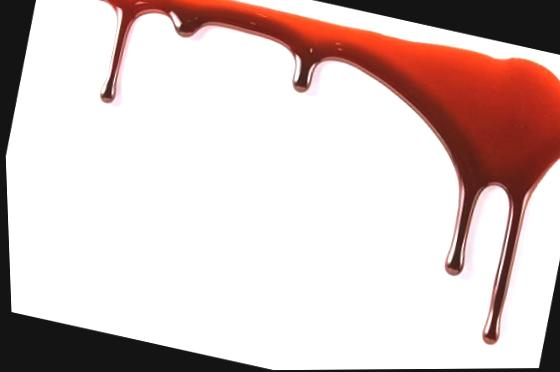Fire: (98, 0, 560, 346)
